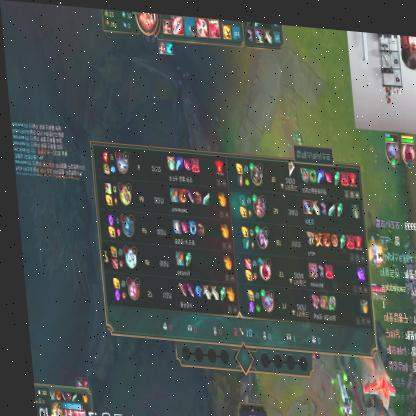streamer: (384, 27, 416, 63)
